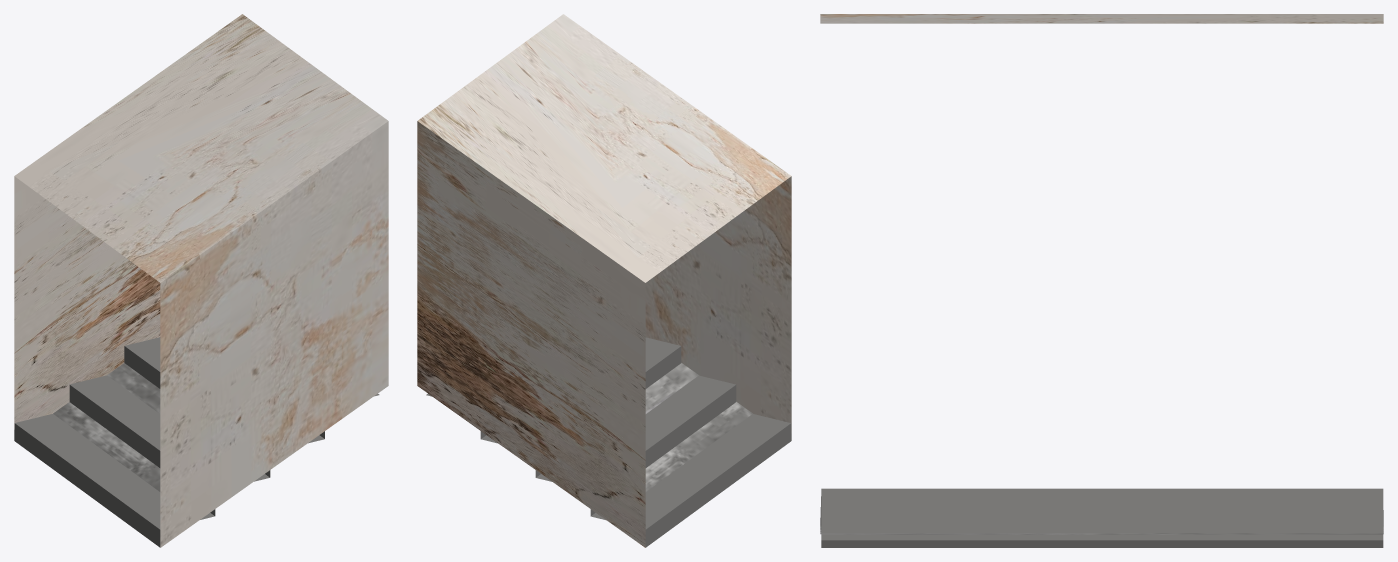
The model's file is escaleraCorta.glb.
3 renders of one model, left to right at view 1: azimuth 30°, elevation 25°; view 2: azimuth 150°, elevation 25°; view 3: azimuth 270°, elevation 25°, orthographic. The views are drawn at different scales.
Visible parts, largest first — view 1: Cube.002, Cube.006; view 2: Cube.002, Cube.006; view 3: Cube.006, Cube.002.
Part boxes in pixels (x1=…): Cube.002: x1=14, y1=14, x2=388, y2=547; Cube.006: x1=14, y1=337, x2=379, y2=547; Cube.002: x1=417, y1=14, x2=791, y2=547; Cube.006: x1=426, y1=337, x2=791, y2=547; Cube.006: x1=820, y1=488, x2=1383, y2=547; Cube.002: x1=820, y1=14, x2=1383, y2=23.
Size of the model in its own units: 4.51 by 7.01 by 5.
Materials: 2 (2 with a texture image).
